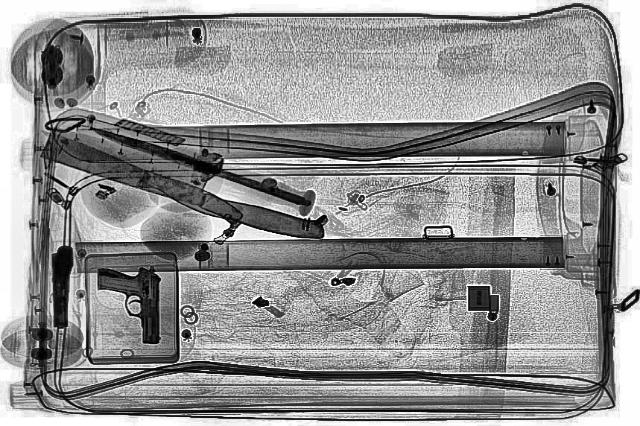Gun: (96, 262, 162, 344), (48, 244, 74, 328)
Knife: (26, 124, 344, 246), (26, 120, 250, 226), (74, 121, 314, 205)
